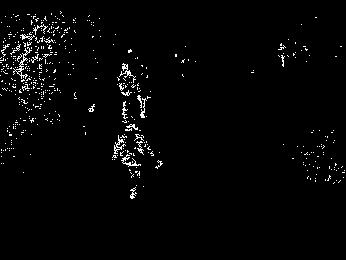person: (109, 114, 163, 202), (115, 61, 142, 124)
